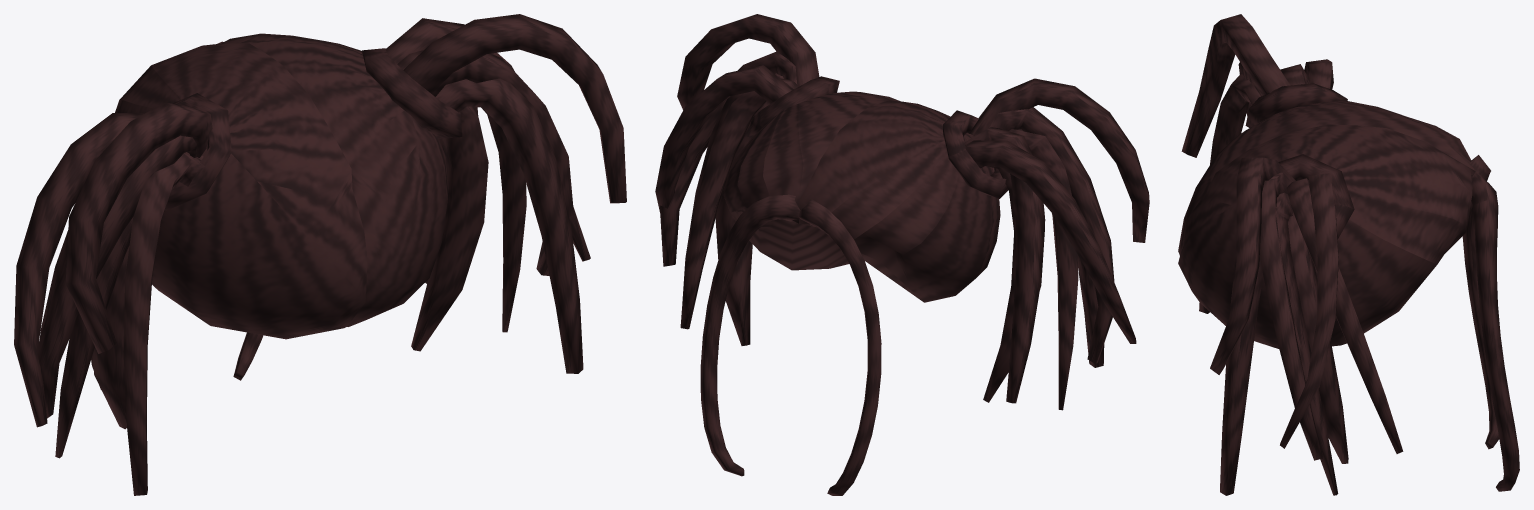
3 views of the same model, side by side, from view 1: azimuth 30°, elevation 25°; view 2: azimuth 150°, elevation 25°; view 3: azimuth 270°, elevation 25° (orthographic). The views are drawn at different scales.
Parts seen in each view (by area): view 1: geometry_0; view 2: geometry_0; view 3: geometry_0.
Part boxes in pixels (x1,y1,x2,y2): geometry_0: (14,14,626,495); geometry_0: (655,14,1149,495); geometry_0: (1178,14,1519,495).
Bounding box in the file's own units: 2.67 × 1.95 × 1.6.
1 material, 1 textured.
